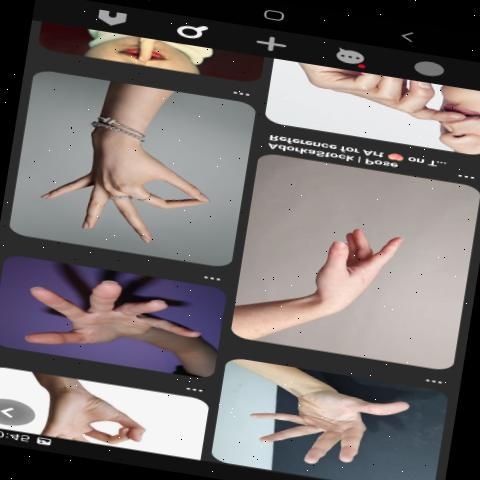Hands: (22, 102, 230, 254), (273, 211, 458, 331), (12, 273, 228, 352), (239, 383, 430, 464)
